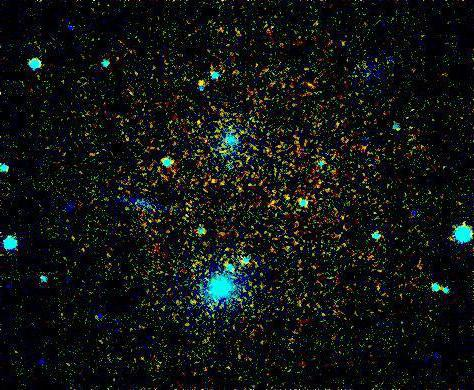star: (187, 66, 217, 96)
